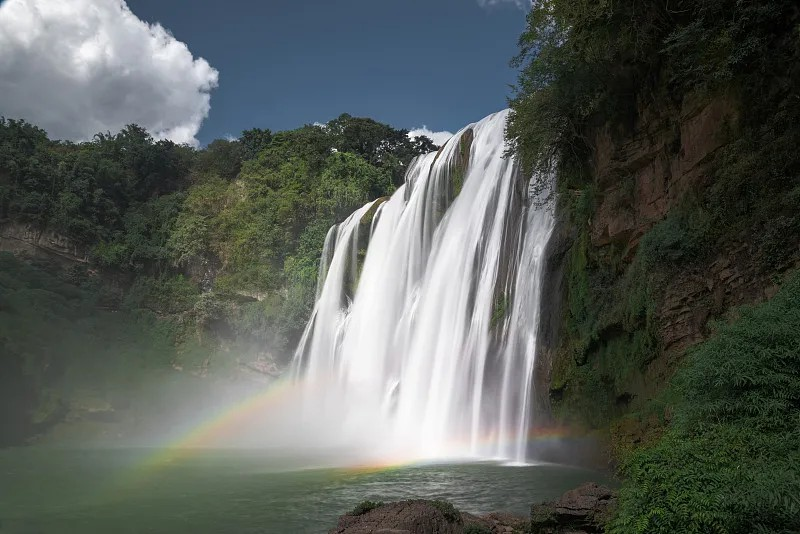Huangguoshu: (298, 108, 557, 466)
